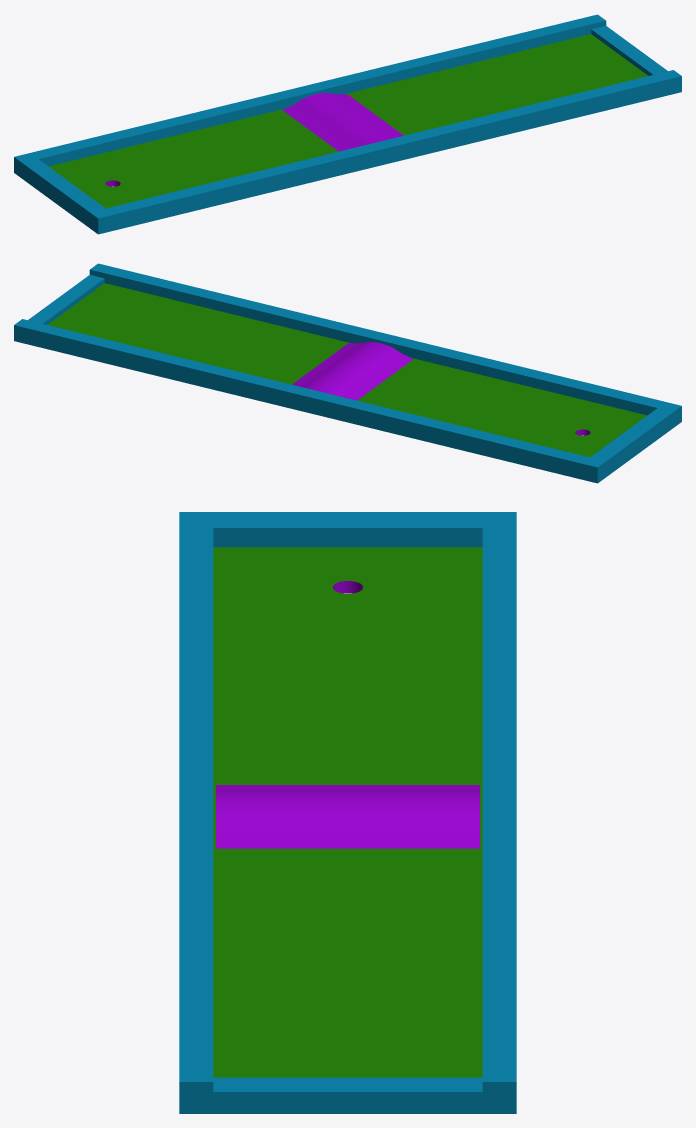
File: Level1.fbx
3 renders of one model, top to bottom at view 1: azimuth 30°, elevation 25°; view 2: azimuth 150°, elevation 25°; view 3: azimuth 270°, elevation 25°, orthographic. The views are drawn at different scales.
Parts seen in each view (by area): view 1: pCube4; view 2: pCube4; view 3: pCube4.
Part boxes in pixels (<box>): pCube4: <box>14,14,681,234</box>; pCube4: <box>14,263,681,483</box>; pCube4: <box>179,512,516,1113</box>.
Bounding box in the file's own units: 16 × 0.4184 × 4.
1 material, 1 textured.
